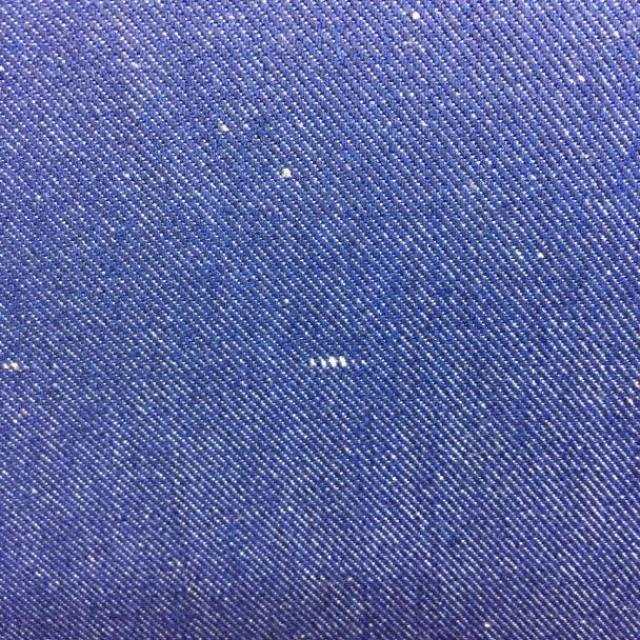Knot: (307, 355, 368, 371)
